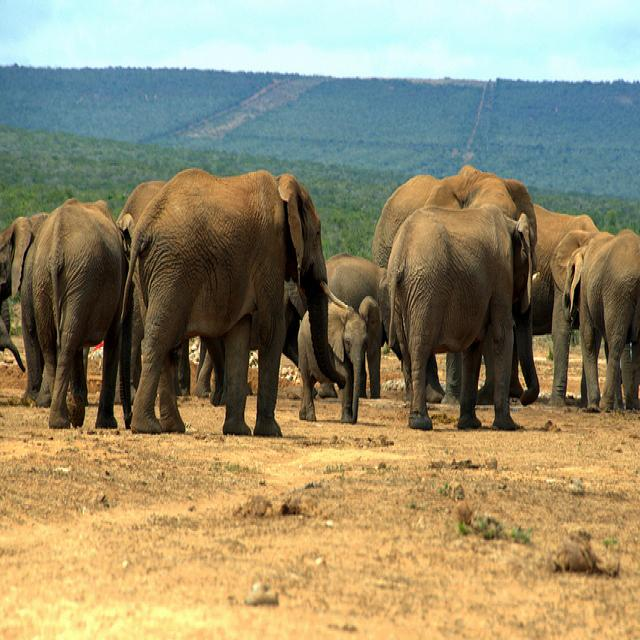Elephant: (118, 166, 351, 437), (385, 202, 538, 431), (26, 196, 126, 429), (549, 227, 639, 413), (297, 293, 381, 423), (0, 211, 52, 405)
